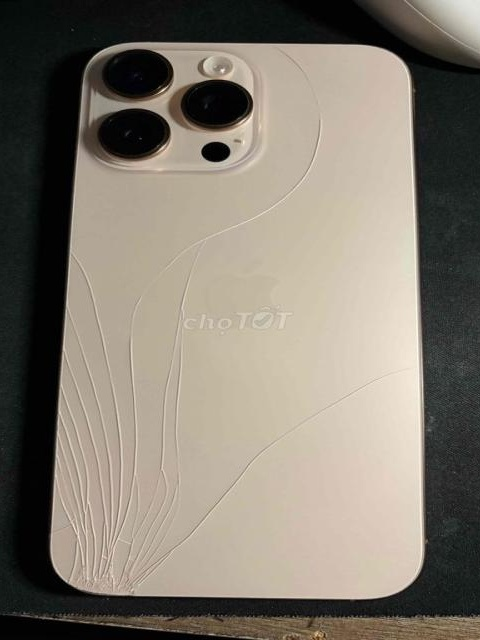physical_damage: (39, 296, 189, 594), (186, 400, 319, 520), (144, 201, 271, 285), (277, 38, 330, 223), (316, 353, 420, 399)
